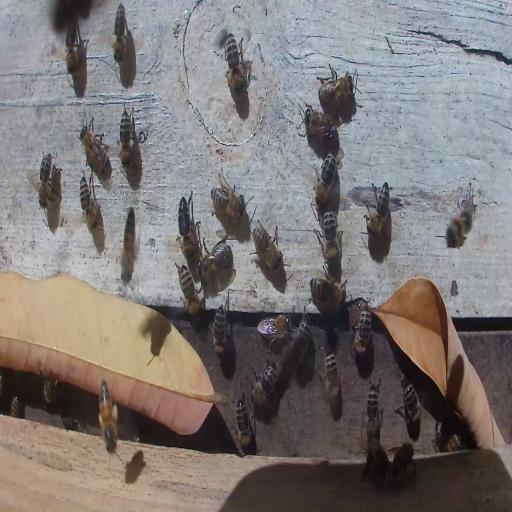nonpollenbee: (274, 328, 308, 402), (78, 121, 112, 176), (302, 105, 340, 153), (250, 218, 282, 272), (318, 70, 354, 116), (210, 178, 246, 222), (224, 35, 248, 99), (366, 180, 392, 239), (318, 346, 342, 409), (314, 153, 340, 206), (176, 263, 200, 318), (178, 191, 198, 257), (79, 172, 100, 234), (199, 242, 233, 280), (308, 276, 347, 309), (232, 399, 254, 456), (398, 381, 422, 433), (64, 18, 86, 74), (364, 439, 390, 486), (446, 210, 475, 252), (118, 107, 137, 169), (294, 308, 312, 372), (250, 363, 276, 405), (389, 442, 415, 484), (364, 380, 382, 440), (320, 210, 342, 258), (353, 299, 372, 354), (258, 314, 292, 342), (113, 3, 128, 64), (38, 152, 52, 211), (212, 303, 227, 353), (43, 378, 58, 406), (444, 432, 462, 452), (9, 395, 24, 417), (60, 416, 83, 429)
pollenbee: (116, 203, 142, 286), (98, 377, 121, 456)
